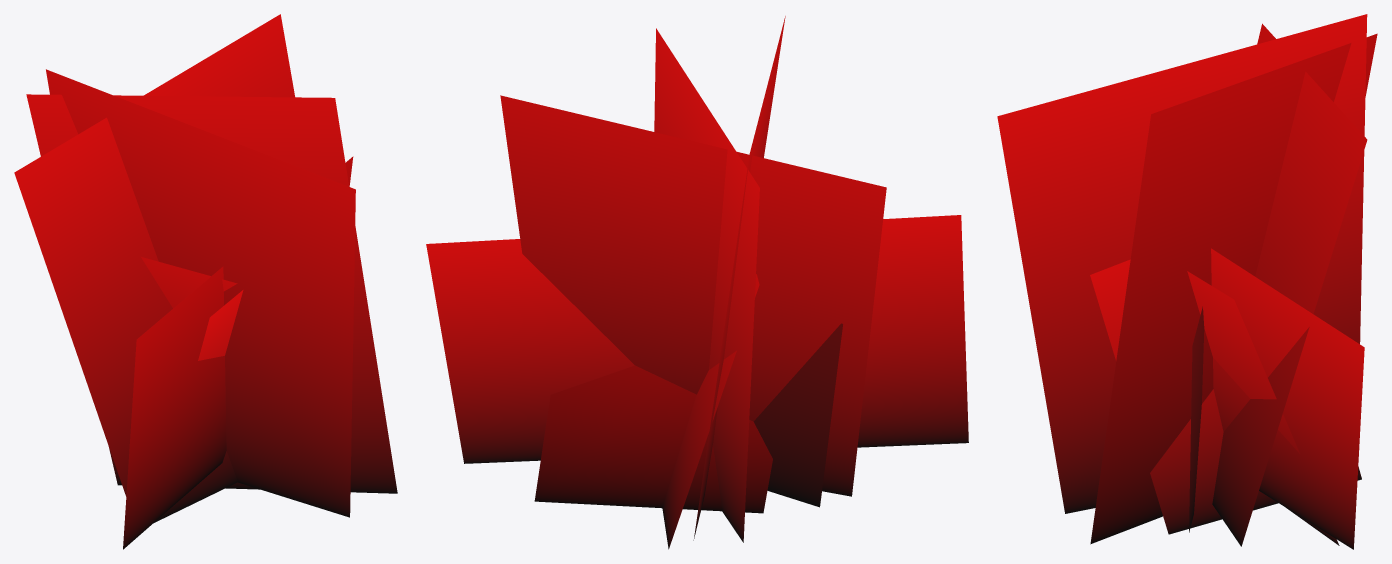
Rendered from SM_Meadow_Grass_01_Var1_LOD.fbx.
The picture shows the model from 3 angles, left to right: view 1: azimuth 30°, elevation 25°; view 2: azimuth 150°, elevation 25°; view 3: azimuth 270°, elevation 25°; orthographic projection. The views are drawn at different scales.
Parts seen in each view (by area): view 1: Meadow_Grass_01_Var1_LOD0; view 2: Meadow_Grass_01_Var1_LOD0; view 3: Meadow_Grass_01_Var1_LOD0.
Boxes of the visible parts, x1,y1,x2,y2 form: Meadow_Grass_01_Var1_LOD0: (14,14,397,549); Meadow_Grass_01_Var1_LOD0: (426,16,968,549); Meadow_Grass_01_Var1_LOD0: (997,14,1377,549).
Size of what is drawn, in the model's own units: 61.19 by 60.65 by 48.5.
